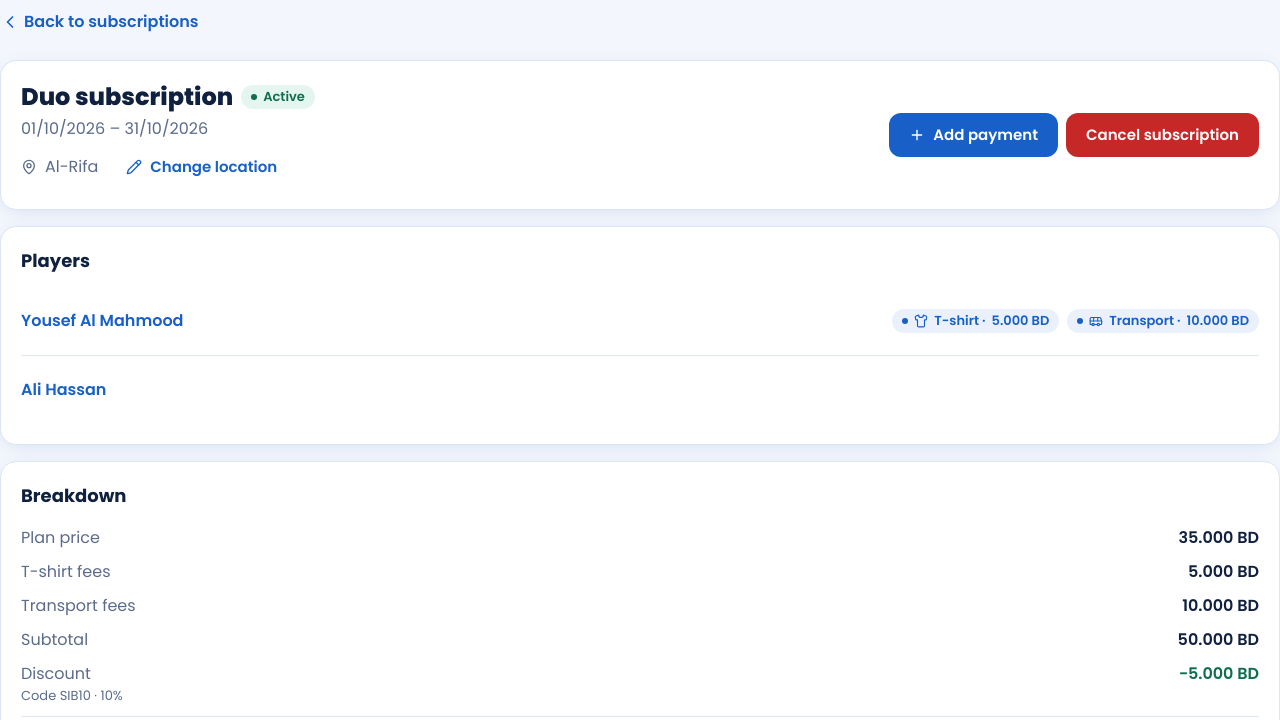
Test case: SubscriptionDetailPage › adding a payment › defaults to the whole balance, today and cash, and records it
Click the button "Add payment": (974,135) top-left (889, 113), bottom-right (1058, 157)
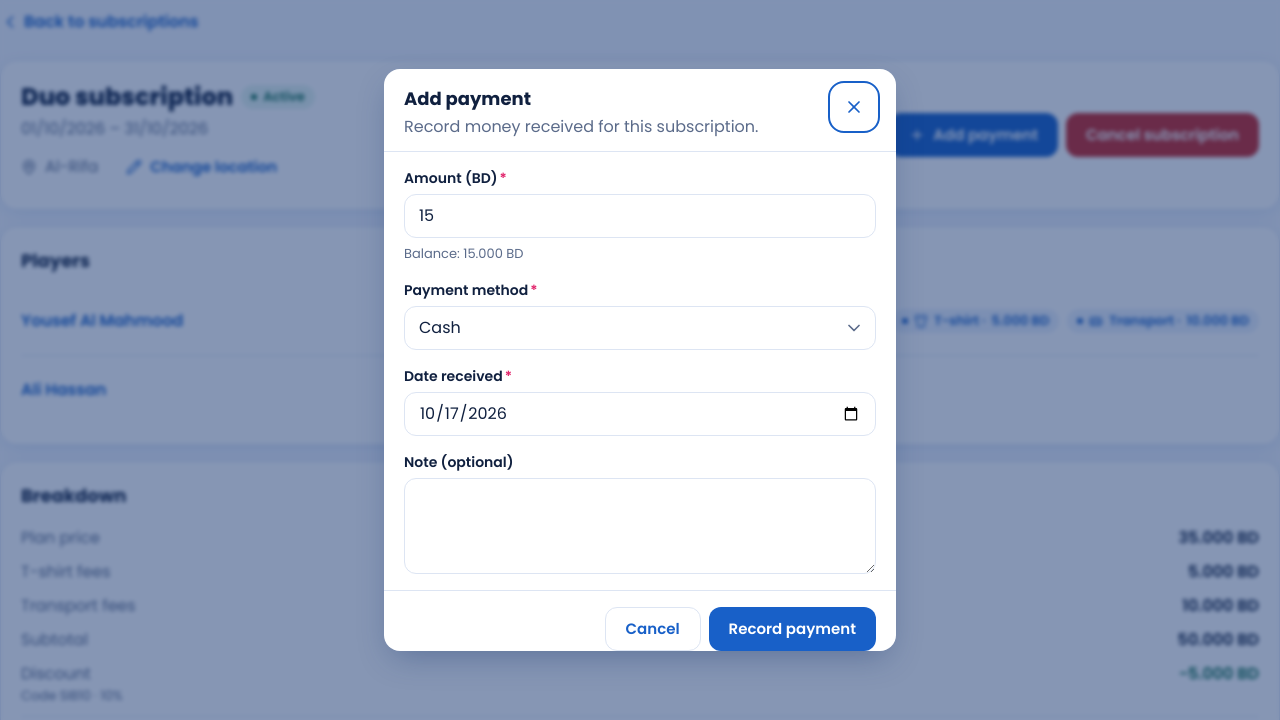
expect the field labelled "Amount (BD)*" holds "15": met, box top-left (404, 194), bottom-right (876, 238)
Click the button "Record payment": (792,629) top-left (709, 607), bottom-right (876, 651)
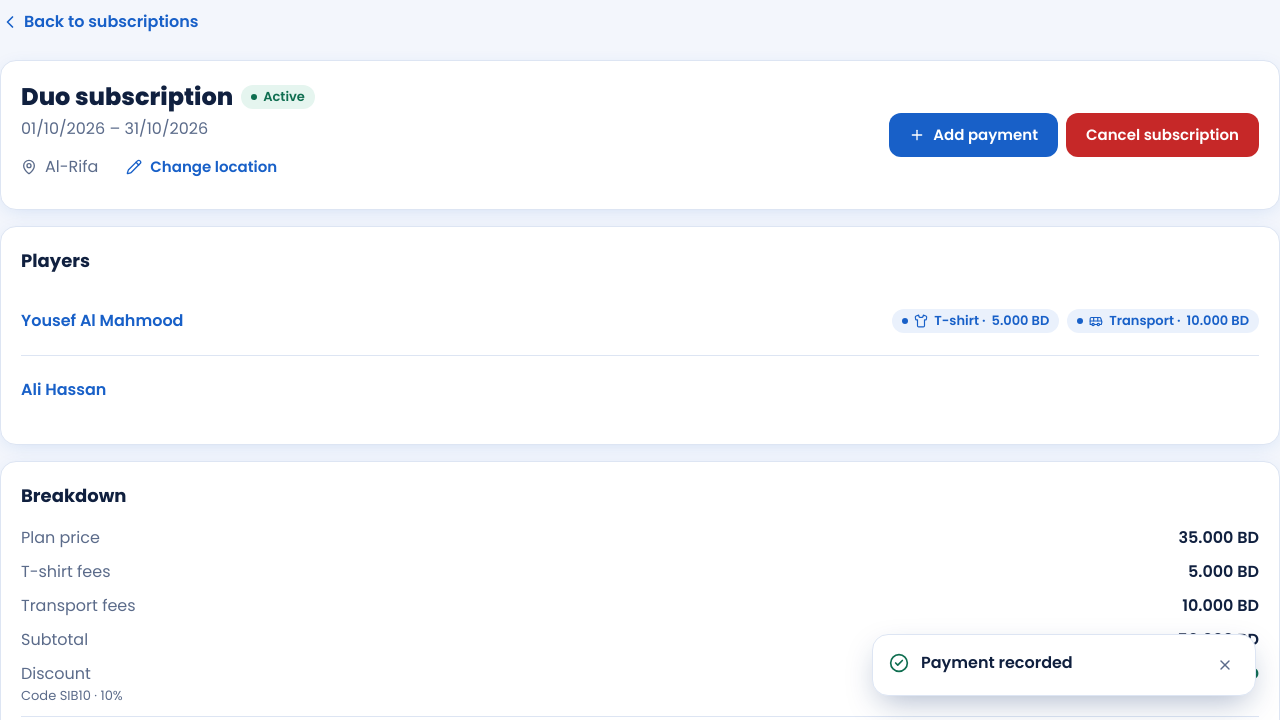
expect the text "Payment recorded" is shown: met, box top-left (921, 651), bottom-right (1073, 674)
